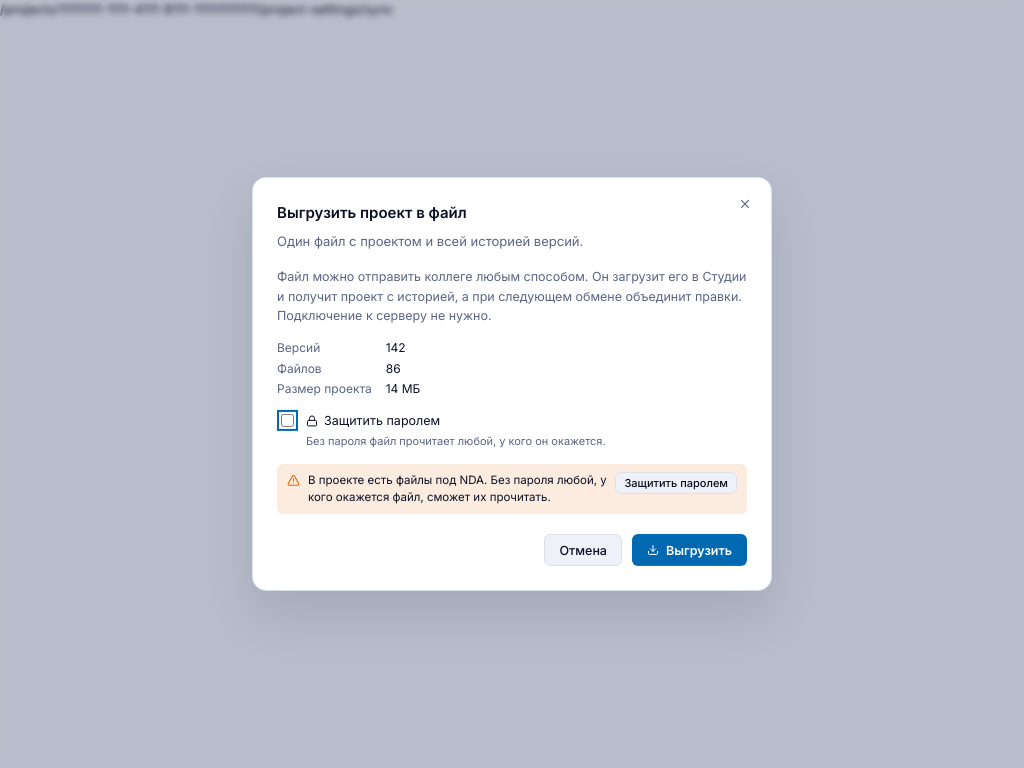
Test case: окно выгрузки проекта в файл › предупреждает про файлы под NDA и защищает их одним нажатием
Check: the text "файлы под NDA" is shown, box [308,473,607,504]
Click the button "Защитить паролем". click: [676, 483]
box: [615,472,737,494]
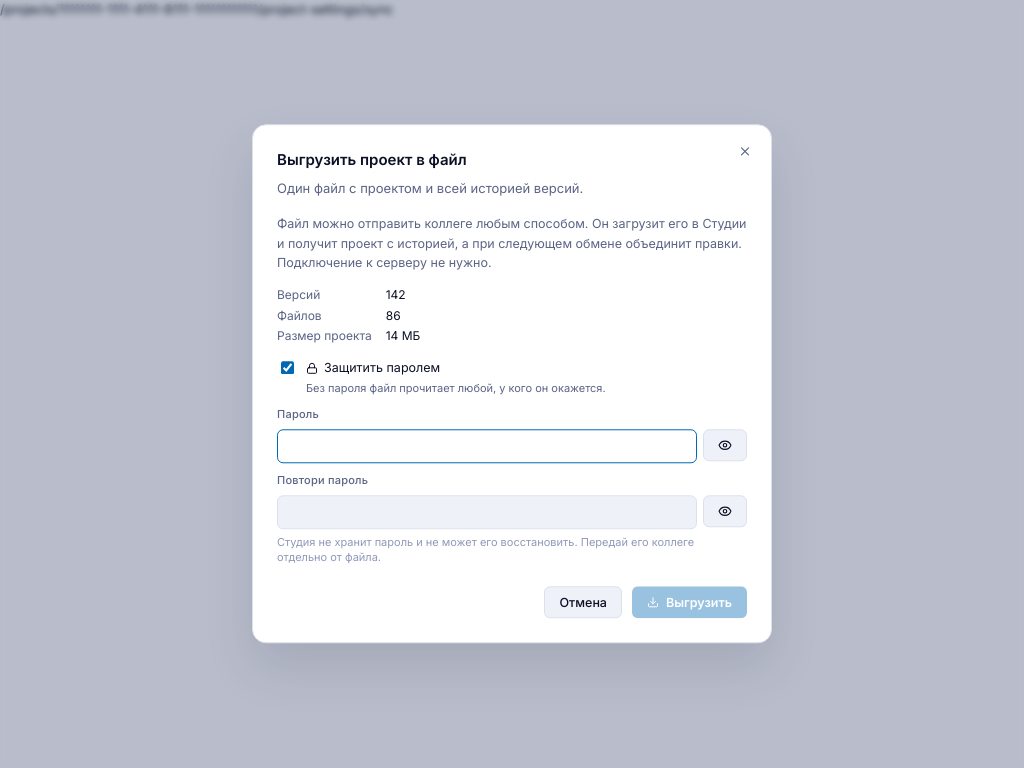
Check: the text "файлы под NDA" is gone
Check: the password field with test id "export-password" is shown, box [277,429,697,463]
